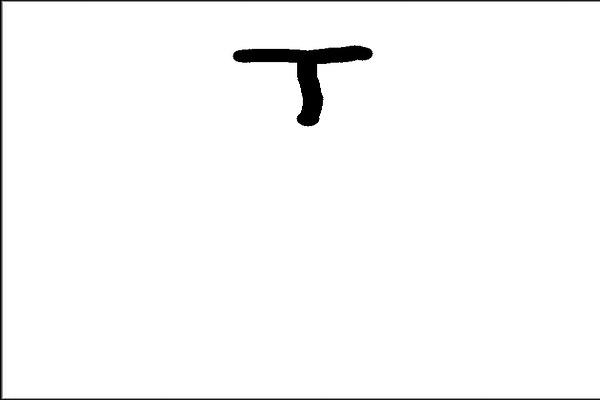T: (221, 41, 377, 130)
